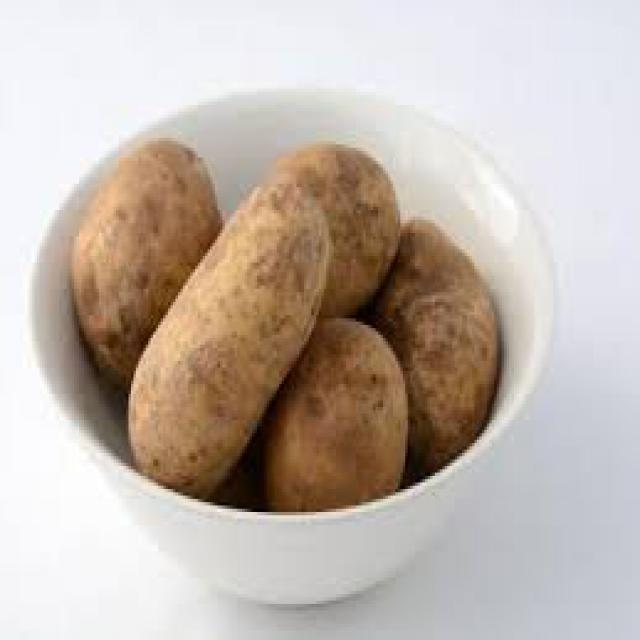potato: (131, 183, 330, 497), (72, 142, 226, 387), (385, 217, 504, 464), (278, 321, 413, 513), (273, 144, 399, 324)
